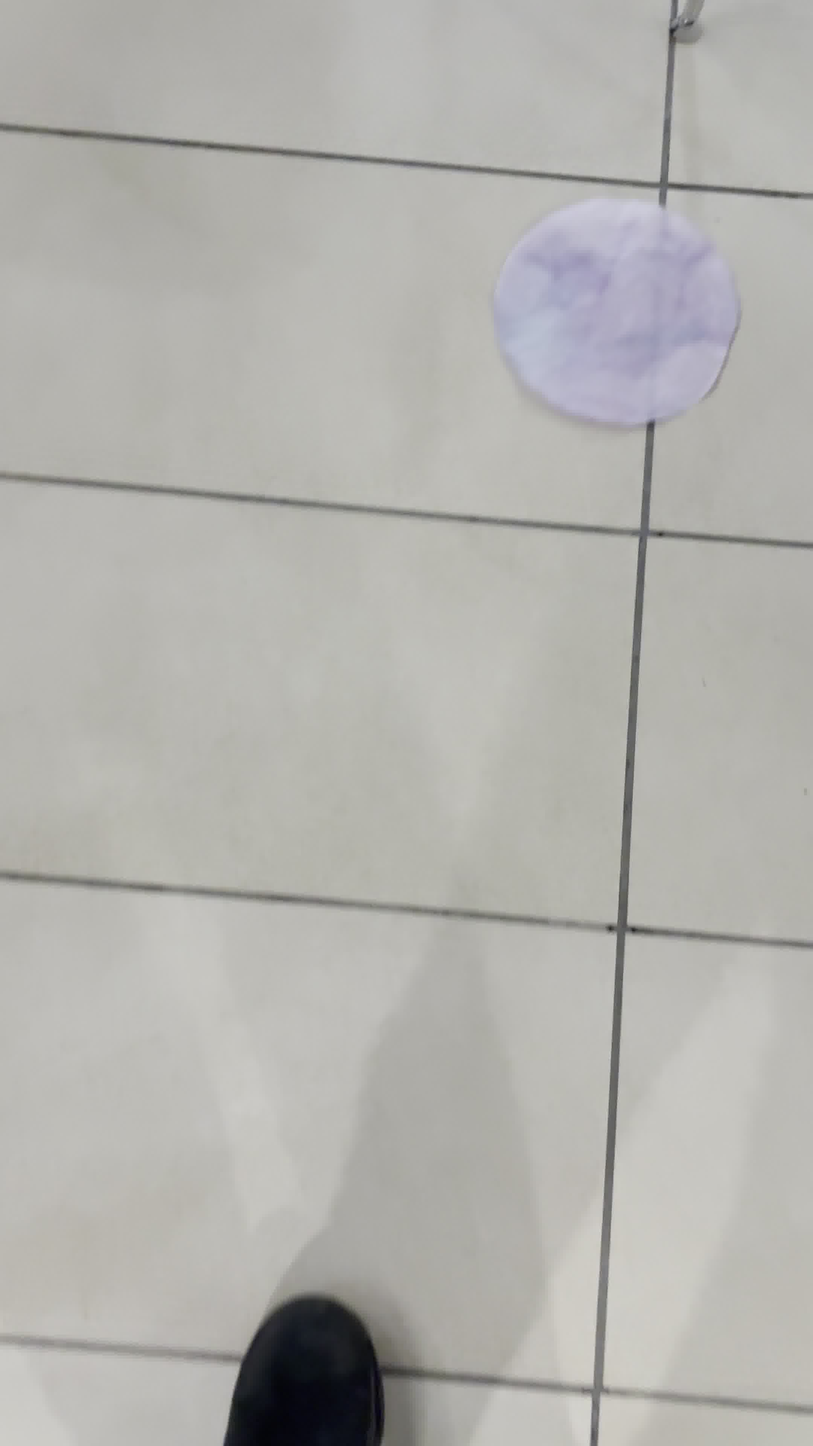Target: (495, 192, 738, 422)
